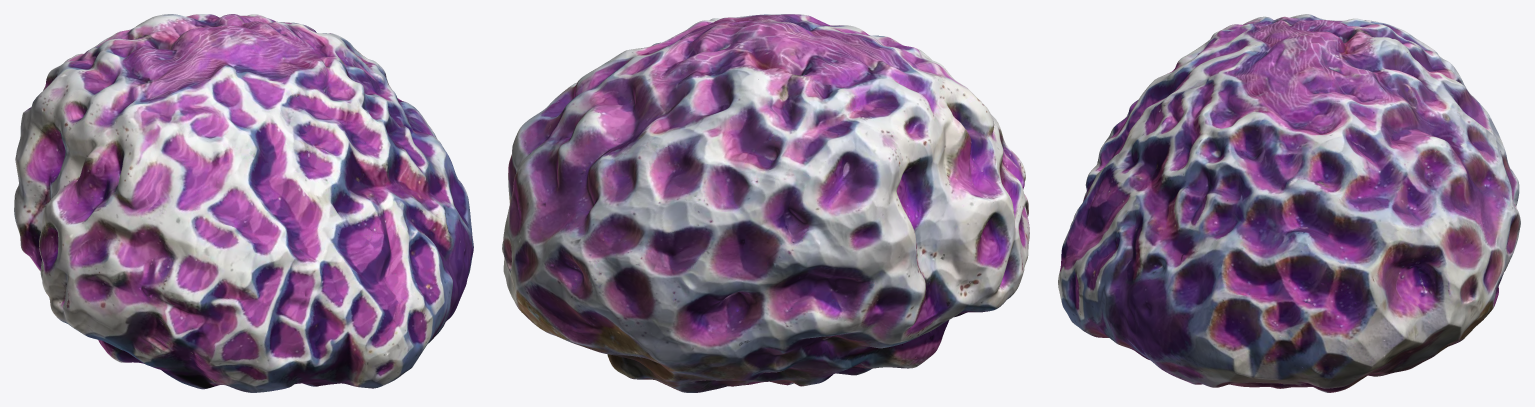
File: chunky_reef_texture.glb
3 renders of one model, left to right at view 1: azimuth 30°, elevation 25°; view 2: azimuth 150°, elevation 25°; view 3: azimuth 270°, elevation 25°, orthographic. The views are drawn at different scales.
Bounding box in the file's own units: 1.94 × 1.45 × 2.
1 material, 1 textured.
